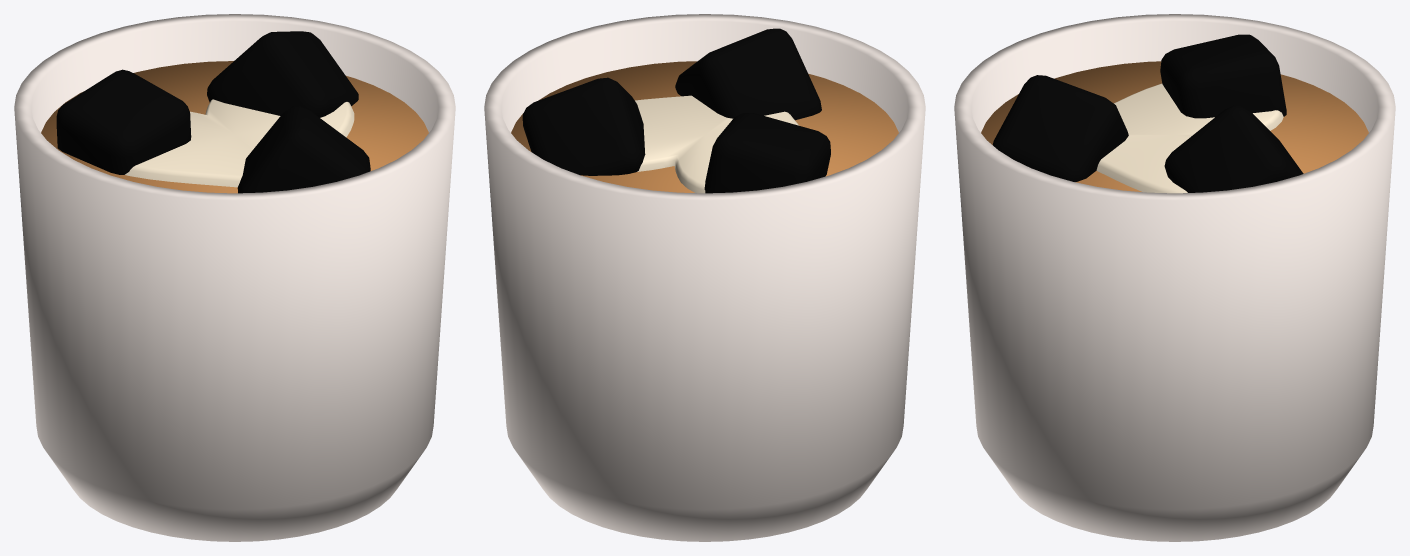
File: Menu_IcedLatte.fbx
3 views of the same model, side by side, from view 1: azimuth 30°, elevation 25°; view 2: azimuth 150°, elevation 25°; view 3: azimuth 270°, elevation 25° (orthographic).
Parts seen in each view (by area): view 1: Menu_IcedLatte.001; view 2: Menu_IcedLatte.001; view 3: Menu_IcedLatte.001.
Boxes of the visible parts, left/top/right/bottom form: Menu_IcedLatte.001: left=14, top=14, right=455, bottom=541; Menu_IcedLatte.001: left=484, top=14, right=925, bottom=541; Menu_IcedLatte.001: left=954, top=14, right=1395, bottom=541.
Size of the model in its own units: 49.66 by 49.36 by 49.66.
